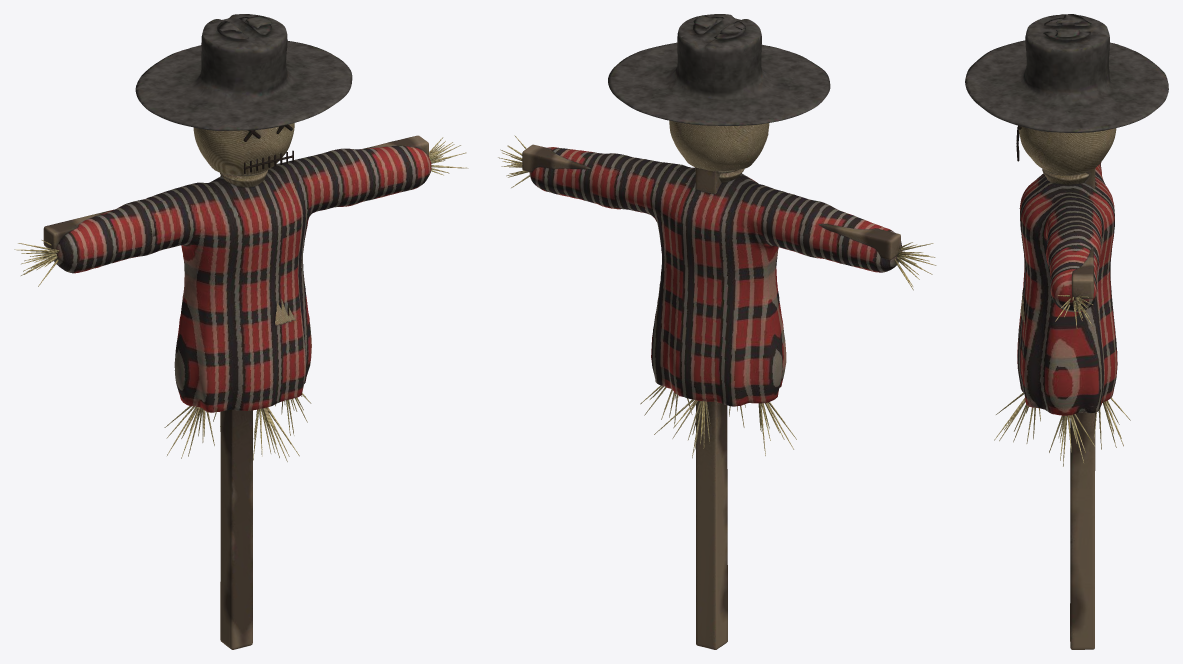
Rendered from scarecrow.glb.
3 views of the same model, side by side, from view 1: azimuth 30°, elevation 25°; view 2: azimuth 150°, elevation 25°; view 3: azimuth 270°, elevation 25° (orthographic).
Parts seen in each view (by area): view 1: Flannel_Shirt, Felt_Hat, Scarecrow_Post, Burlap_Head, Straw; view 2: Flannel_Shirt, Felt_Hat, Scarecrow_Post, Burlap_Head, Straw; view 3: Flannel_Shirt, Felt_Hat, Scarecrow_Post, Burlap_Head, Straw.
Boxes of the visible parts, x1=… form: Flannel_Shirt: x1=54, y1=146, x2=431, y2=412; Felt_Hat: x1=135, y1=14, x2=352, y2=130; Scarecrow_Post: x1=43, y1=135, x2=428, y2=649; Burlap_Head: x1=193, y1=123, x2=294, y2=187; Straw: x1=14, y1=137, x2=468, y2=461; Flannel_Shirt: x1=529, y1=147, x2=902, y2=406; Felt_Hat: x1=608, y1=14, x2=830, y2=125; Scarecrow_Post: x1=522, y1=144, x2=900, y2=649; Burlap_Head: x1=669, y1=120, x2=769, y2=182; Straw: x1=498, y1=135, x2=936, y2=458; Flannel_Shirt: x1=1017, y1=162, x2=1117, y2=415; Felt_Hat: x1=965, y1=14, x2=1168, y2=132; Scarecrow_Post: x1=1070, y1=168, x2=1095, y2=649; Burlap_Head: x1=1019, y1=127, x2=1116, y2=184; Straw: x1=994, y1=295, x2=1130, y2=466.
Bounding box in the file's own units: 1.64 × 2.23 × 0.6624.
1 material, 1 textured.
